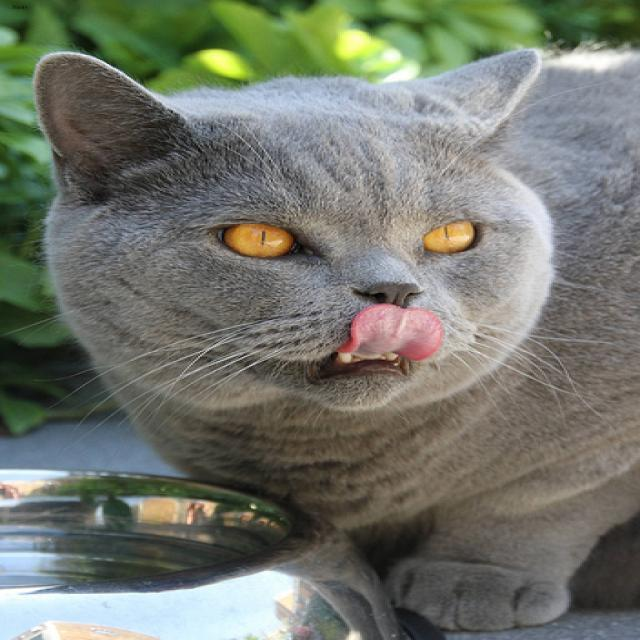British_Shorthair: (29, 49, 590, 453)
